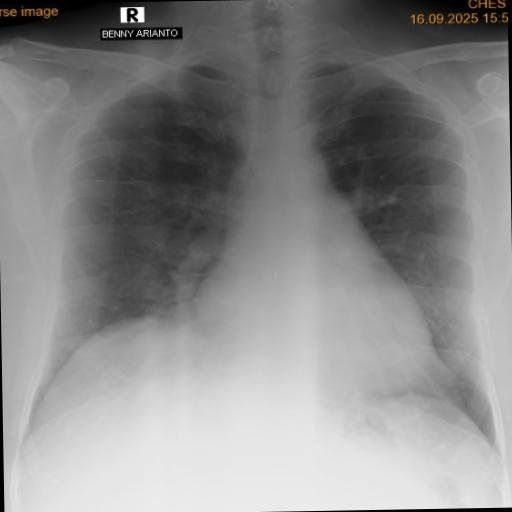kardiomegali: (9, 28, 511, 472)
